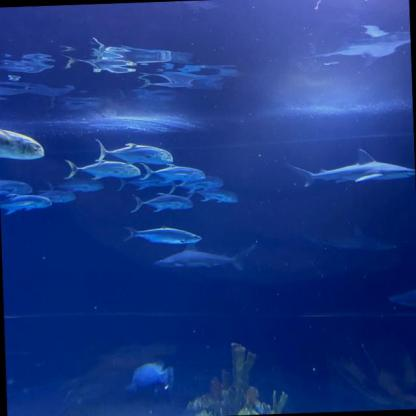fish: (94, 135, 173, 167), (122, 360, 174, 396), (62, 157, 140, 180), (122, 224, 202, 246), (138, 160, 206, 184), (0, 124, 45, 160), (130, 192, 193, 213), (164, 174, 224, 196), (0, 192, 53, 216), (116, 172, 171, 191), (45, 176, 105, 193), (184, 187, 238, 205), (0, 176, 34, 198), (37, 188, 76, 203)
shark: (286, 147, 415, 188), (152, 241, 258, 274), (302, 224, 396, 254), (388, 287, 416, 311)
